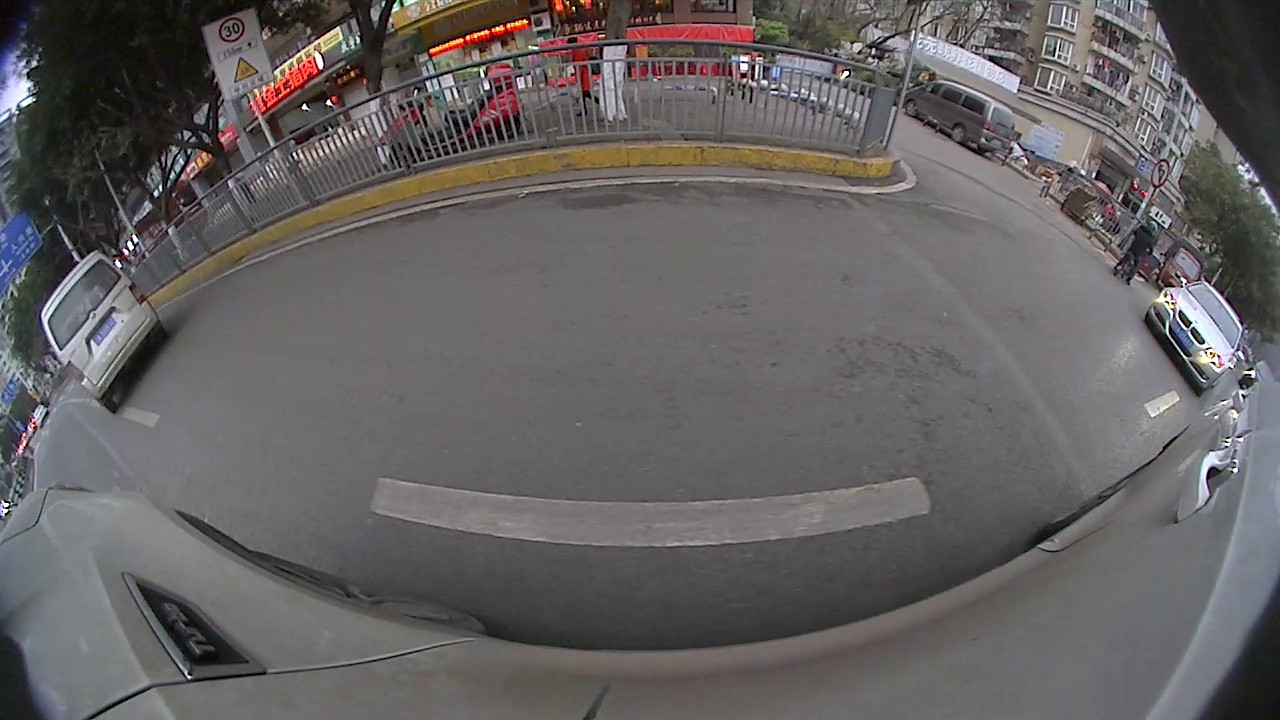car: (36, 245, 170, 414), (1141, 272, 1252, 399), (901, 75, 1021, 158)
front: (904, 101, 922, 117)
person: (564, 30, 602, 115)
rear: (950, 124, 967, 145)
rider: (374, 56, 528, 176), (1110, 213, 1166, 292)
